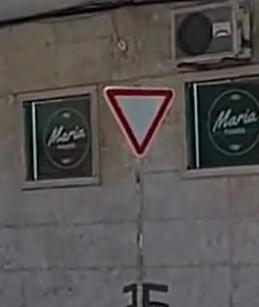cedencia de passagem: (97, 80, 184, 159)
